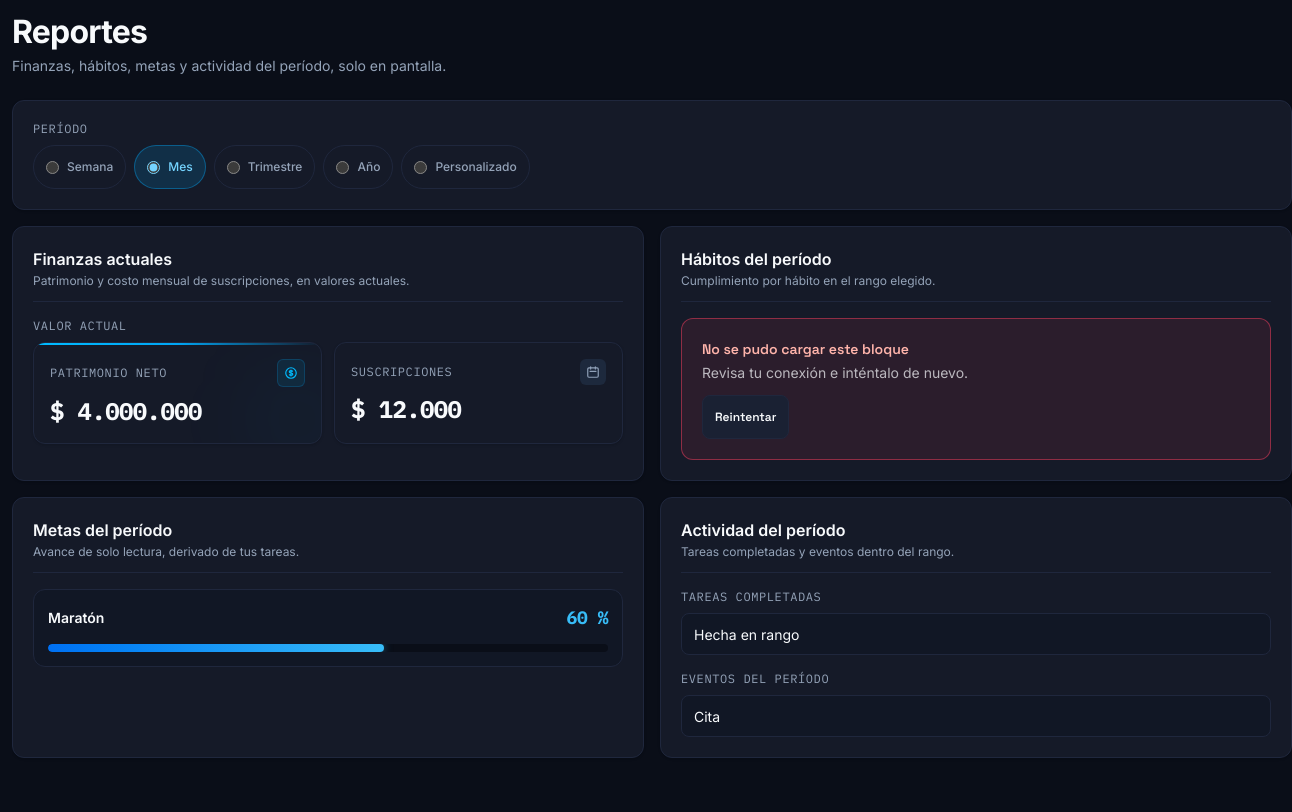
it: ReportsScreens JD-1 fixes › W-01: el retry de hábitos revalida también /habits/today, no solo el historial
Click the button "Reintentar".
click(746, 417)  # box [702,395,790,439]
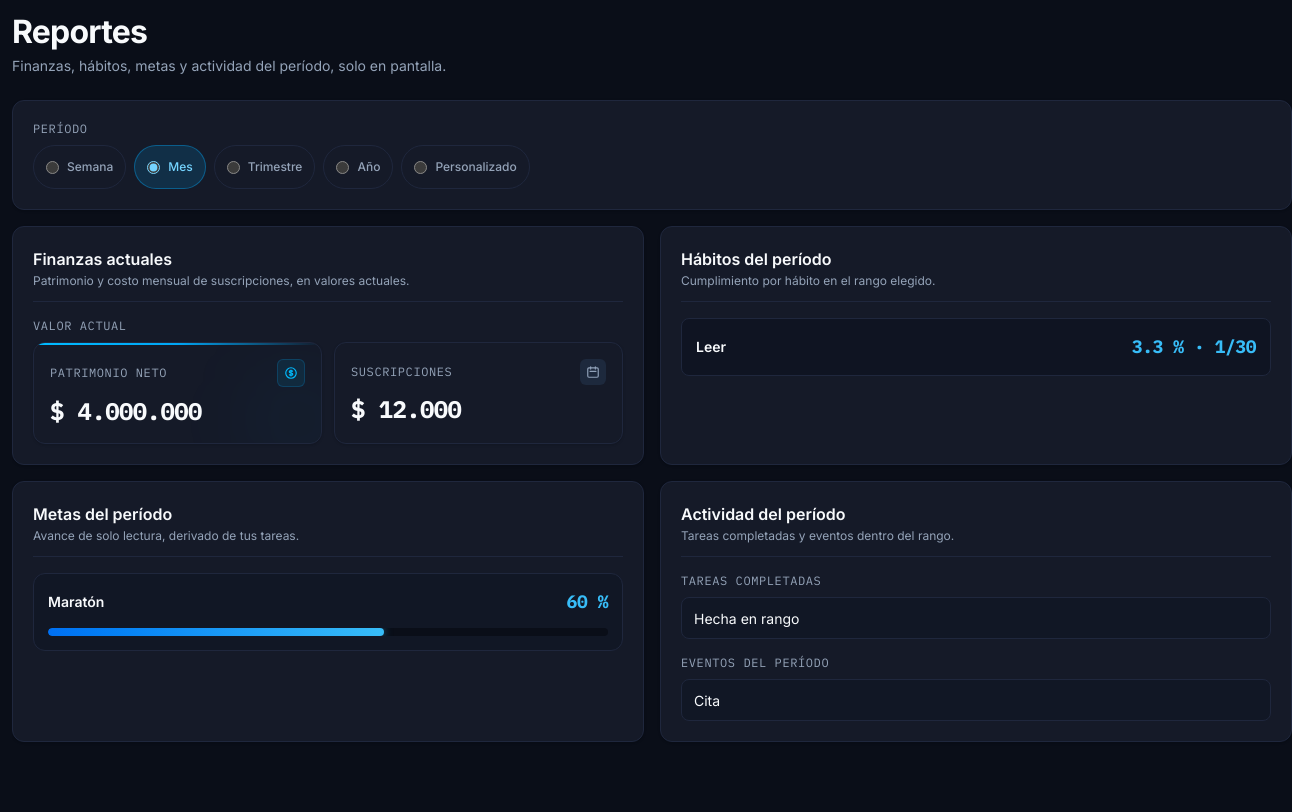
Expected: the text "Leer" is shown, [696,337,726,357]
